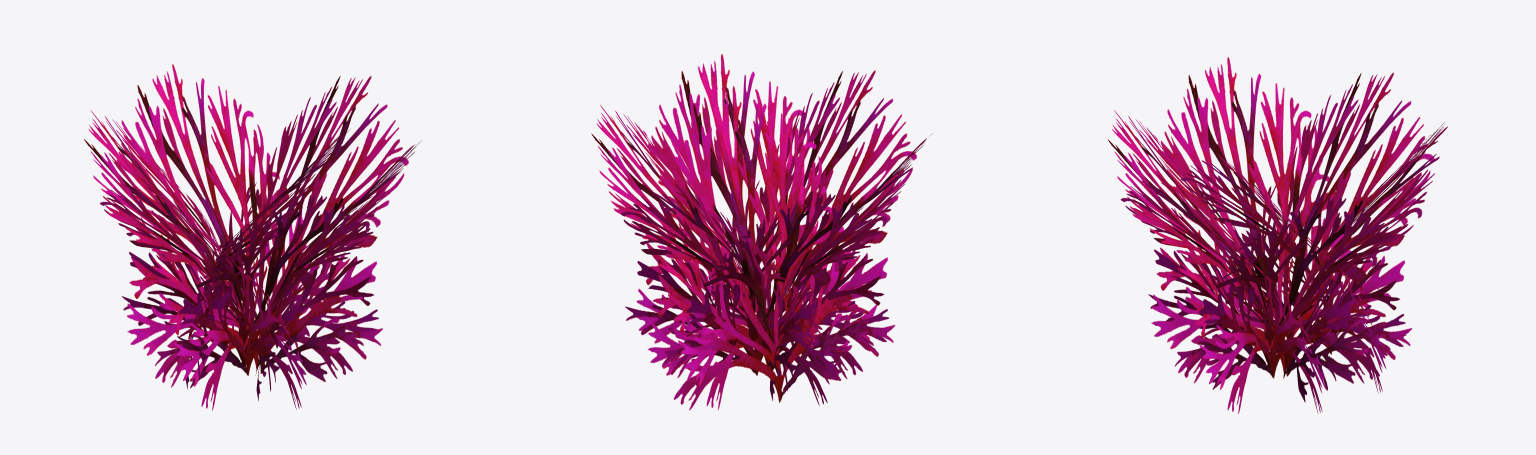
File: algae_03.glb
The picture shows the model from 3 angles, left to right: view 1: azimuth 30°, elevation 25°; view 2: azimuth 150°, elevation 25°; view 3: azimuth 270°, elevation 25°; orthographic projection.
Parts seen in each view (by area): view 1: pPlane26; view 2: pPlane26; view 3: pPlane26.
Part boxes in pixels (x1=…): pPlane26: x1=84, y1=64, x2=421, y2=410; pPlane26: x1=591, y1=54, x2=932, y2=410; pPlane26: x1=1107, y1=57, x2=1447, y2=413.
Bounding box in the file's own units: 1.69 × 1 × 1.66.
Materials: 1 (1 with a texture image).
